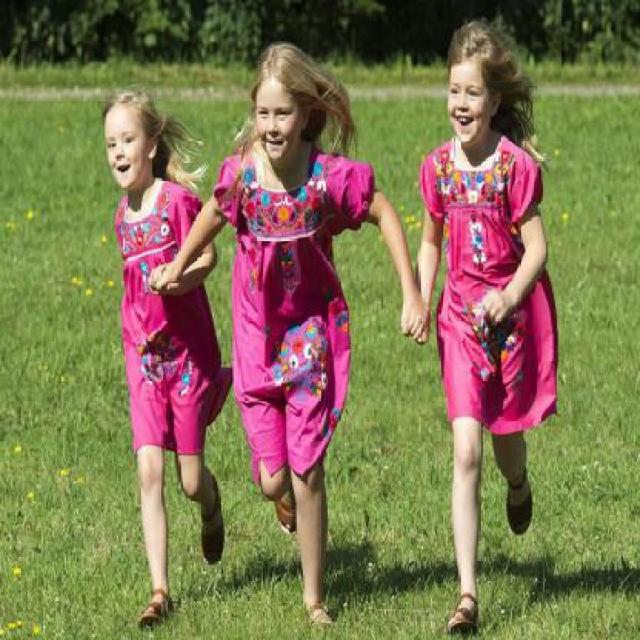Person: (206, 47, 377, 605), (411, 19, 558, 618), (68, 70, 235, 593)
